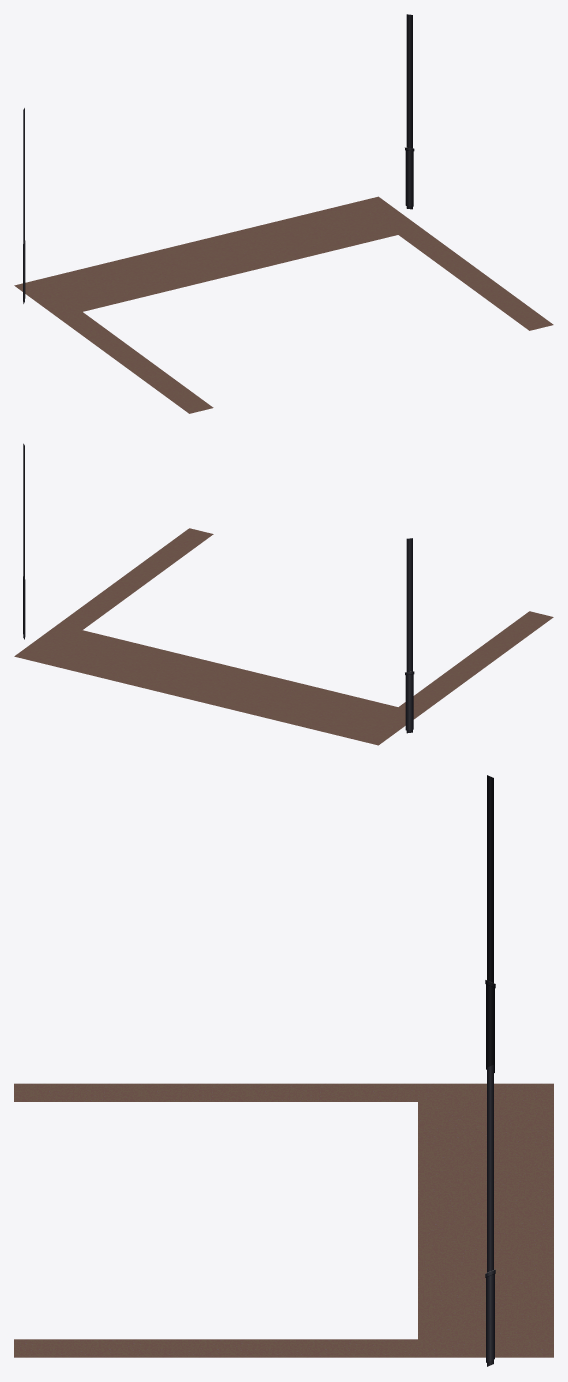
3 renders of one model, top to bottom at view 1: azimuth 30°, elevation 25°; view 2: azimuth 150°, elevation 25°; view 3: azimuth 270°, elevation 25°, orthographic. The views are drawn at different scales.
Size of the model in its own units: 99.2 by 47.1 by 77.
2 materials, 2 textured.
